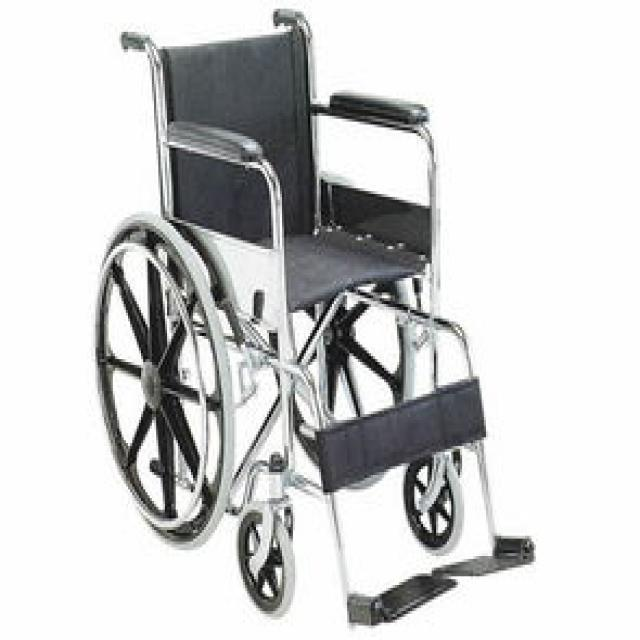wheelchair: (82, 3, 540, 637)
